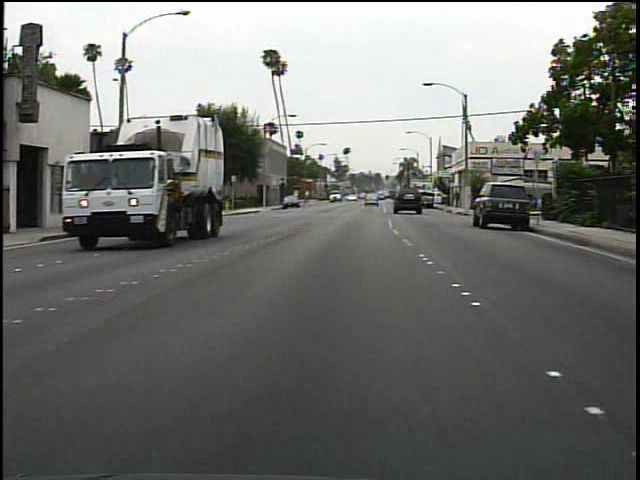person: (447, 185, 465, 214)
